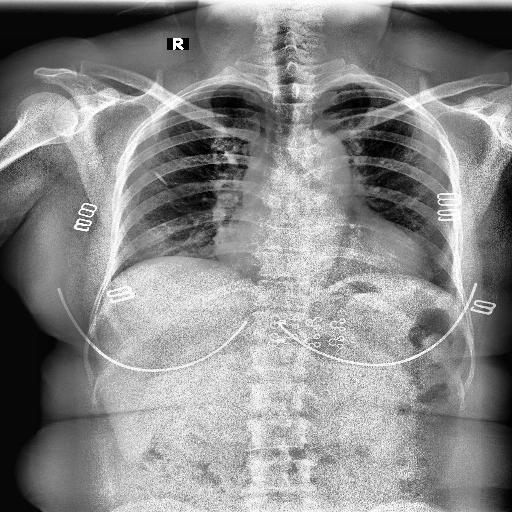0- Aortic enlargement: (280, 131, 350, 186), (300, 128, 352, 182), (301, 128, 351, 170)
3- Cardiomegaly: (216, 222, 426, 286), (224, 226, 426, 284)
7- Lung Opacity: (152, 170, 169, 186)
9- Other lesion: (152, 170, 169, 186), (152, 168, 166, 186)
